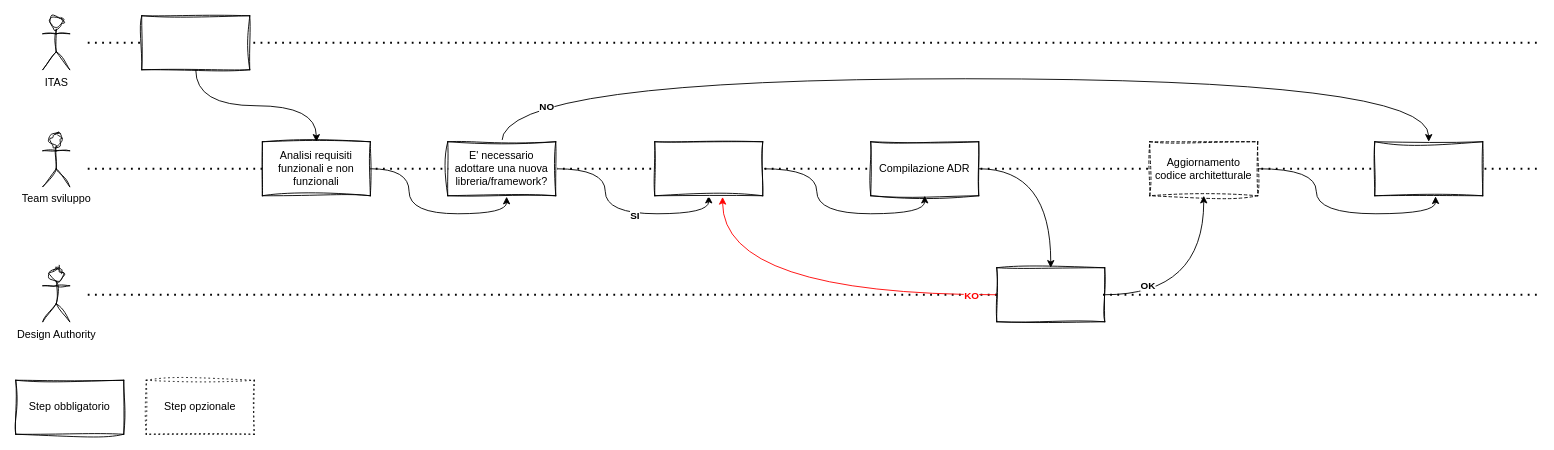
The diagram is 1554 pixels wide and 450 high, and some of its shapes have lost their labels. Here are the shapes that lost their labels. From the top down, the centre of each, then its label:
[195,42]: Nuova feature richiesta
[708,168]: Valutazione set di librerie/framework
[1428,168]: Avvio processo di sviluppo
[1050,294]: Validazione ADR
